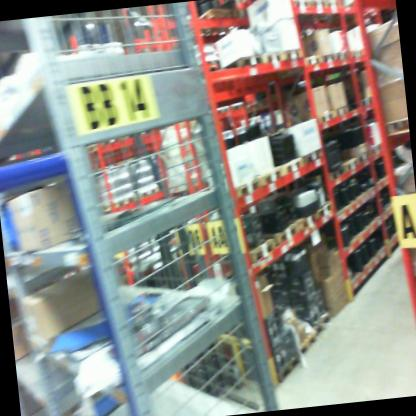pallet: (276, 310, 332, 381), (332, 46, 376, 110), (244, 235, 281, 276), (195, 4, 233, 35), (228, 47, 266, 77), (263, 223, 297, 254), (230, 175, 268, 202), (249, 47, 285, 74), (377, 109, 409, 139), (318, 161, 347, 193), (275, 42, 307, 71), (311, 197, 337, 231), (304, 109, 336, 132), (334, 152, 360, 180), (296, 331, 318, 362), (289, 209, 318, 231), (260, 167, 289, 189), (295, 50, 321, 74), (316, 46, 339, 73), (299, 143, 325, 164), (281, 158, 305, 180), (352, 143, 373, 166)
